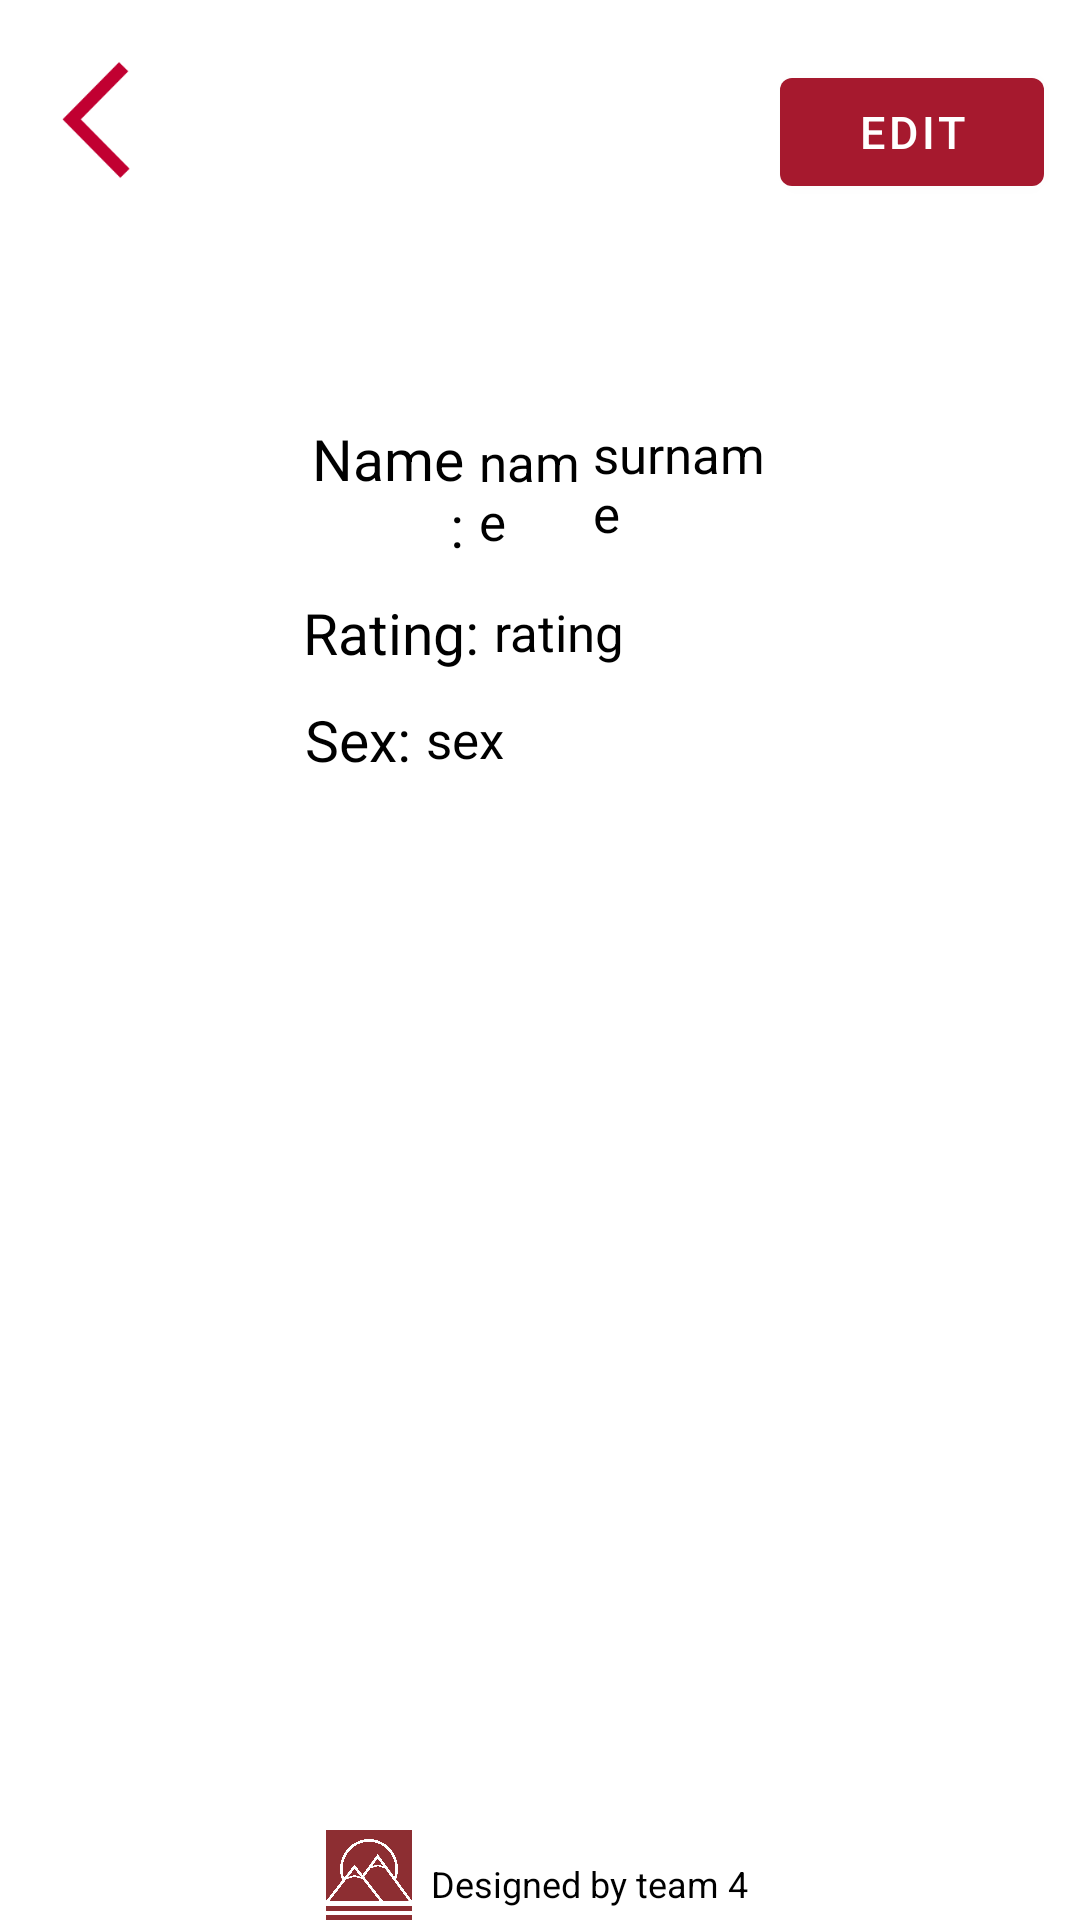

Named icons in this screenshot (1080×1920) and their centers, (x=x, y=y):
back: (x=96, y=120)
